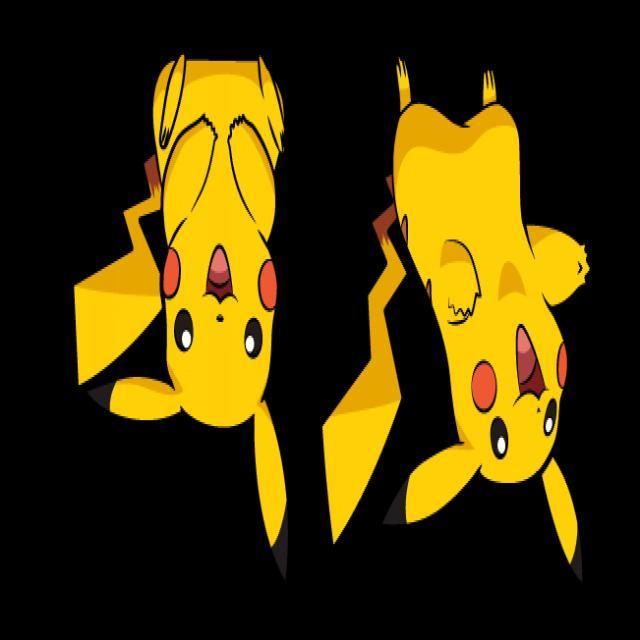Pikachu: (305, 0, 640, 637), (48, 38, 300, 613)
